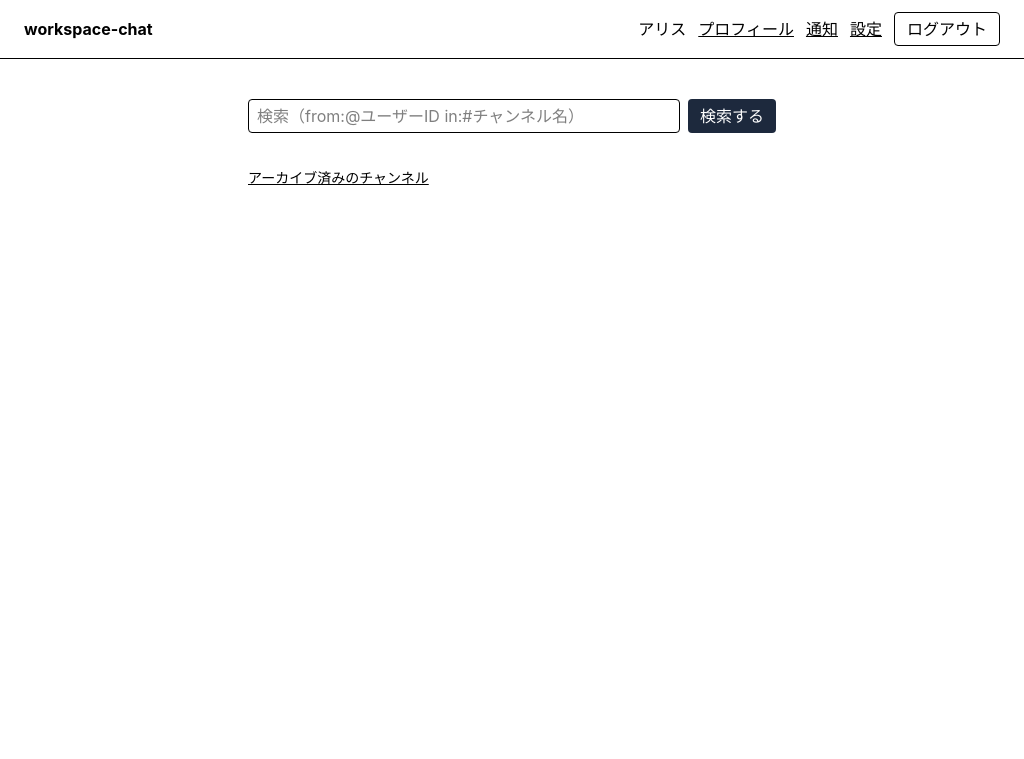
Test: アーカイブ（F-35・3.2） › アーカイブしたら、開いてあるアーカイブ済みの一覧を取り直し、そのチャンネルを載せる
Click the button "アーカイブ済みのチャンネル" at (338, 178), box [248,168,429,188]
(page scrolled)
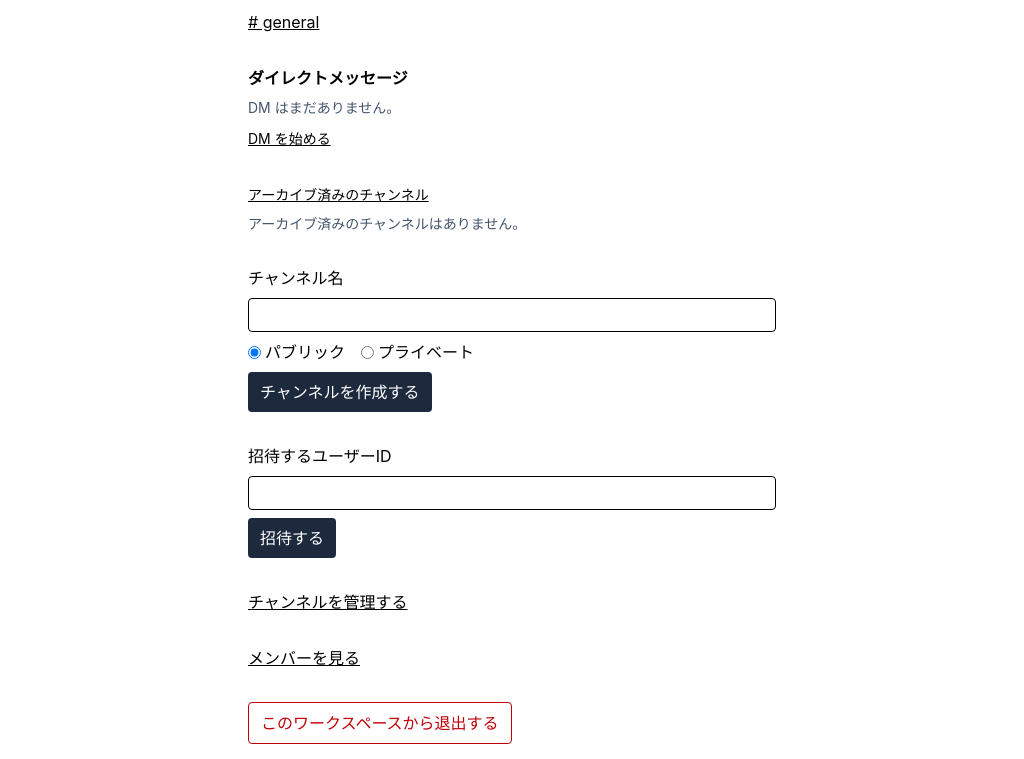
Result: the text "アーカイブ済みのチャンネルはありません。" is shown at [248,215,526,232]
Click the button "チャンネルを管理する" at (328, 602), box [248,590,408,614]
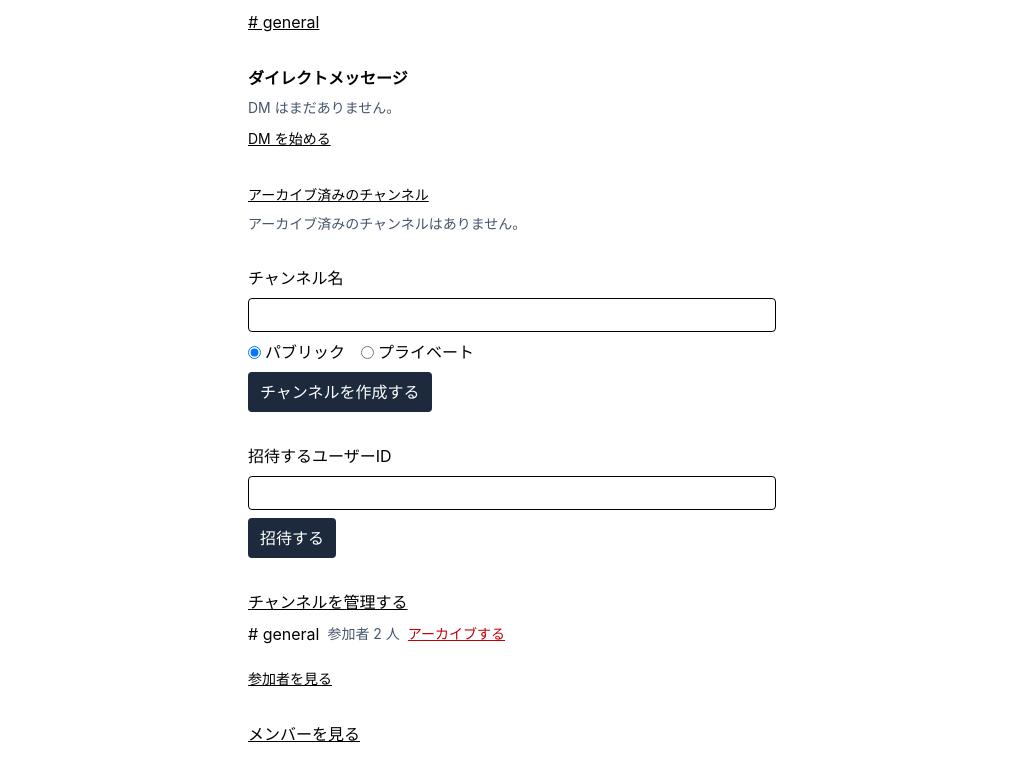
Click the button with aria-label "general をアーカイブする" at (456, 634), box [408,624,505,644]
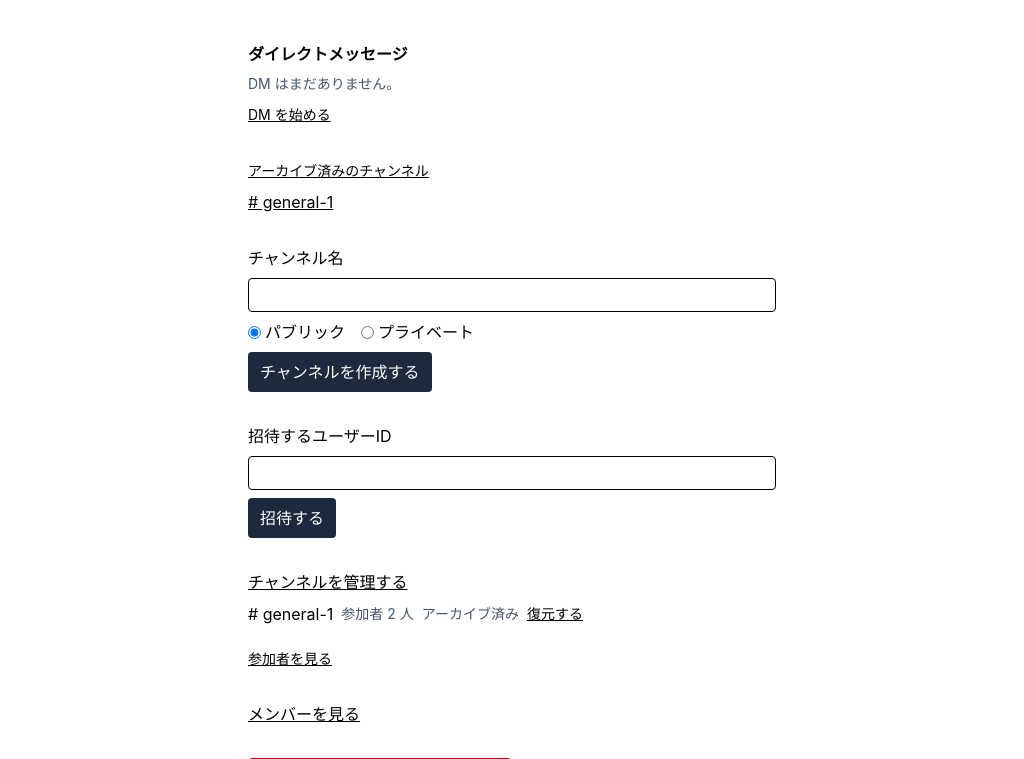
Result: the link "# general-1" is shown at [248,192,333,212]
